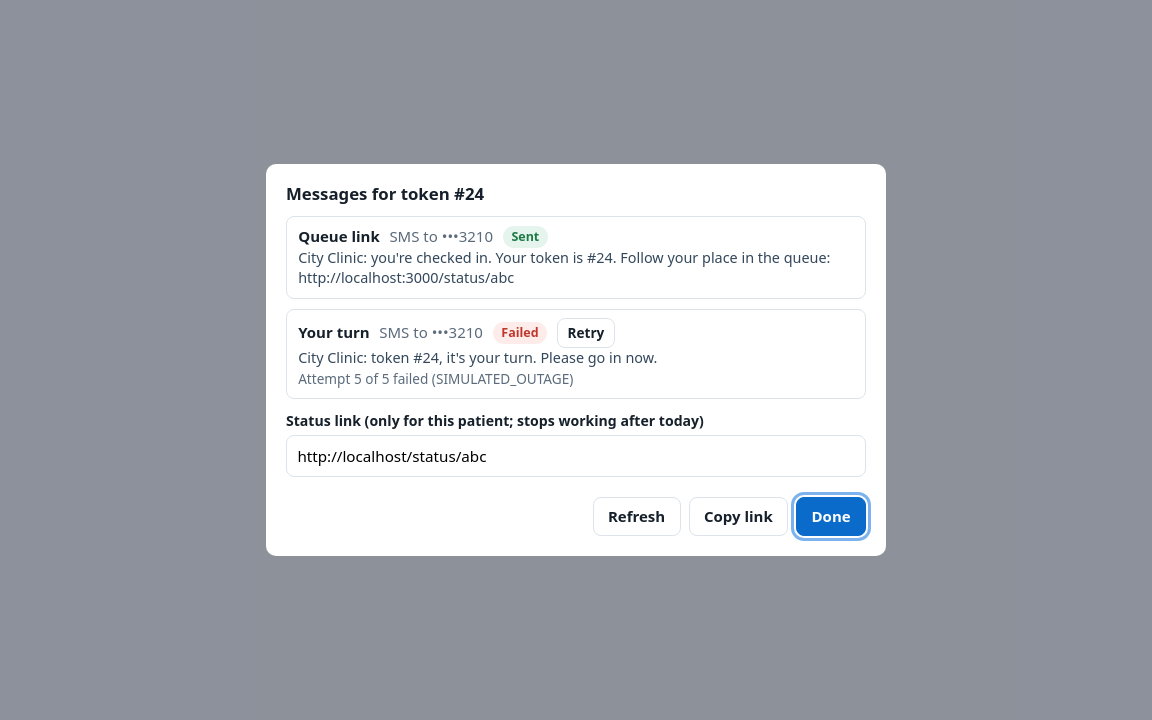
it: StatusLinkDialog › retries a failed message and shows the new status
The width and height of the screenshot is (1152, 720).
expect the list item that starts with "Your turn" shows "Attempt 5 of 5 failed (SIMULATED_OUTAGE)": met, box [286,309,866,398]
Click the button "Retry" at (586, 333), box [557,318,615,348]
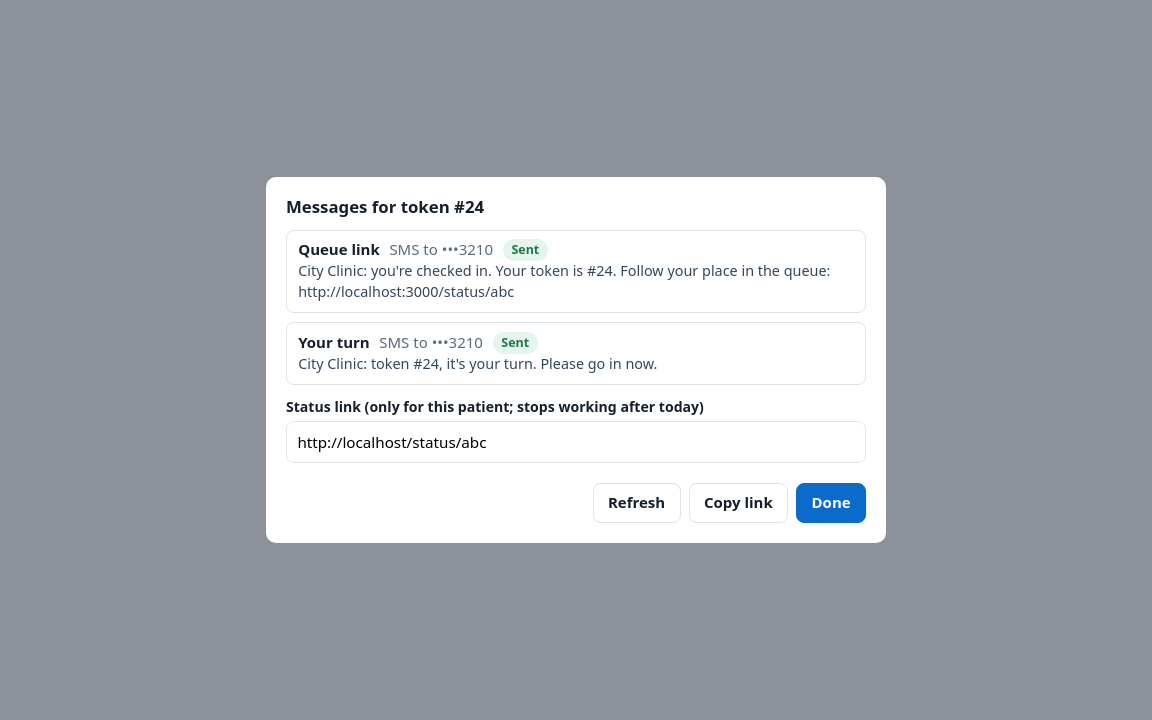
expect the list item that starts with "Your turn" shows "Sent": met, box [501,334,529,351]
